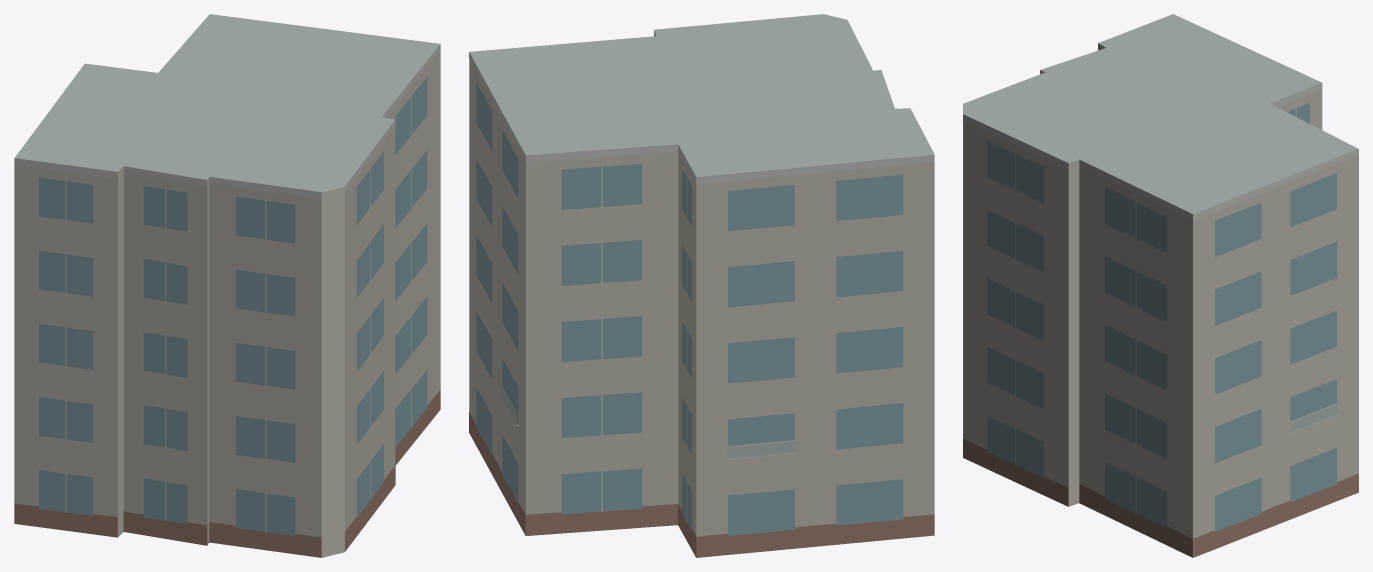
Rendered from survey-upis-32732750.glb.
3 views of the same model, side by side, from view 1: azimuth 30°, elevation 25°; view 2: azimuth 150°, elevation 25°; view 3: azimuth 270°, elevation 25° (orthographic). The views are drawn at different scales.
Parts seen in each view (by area): view 1: survey-upis-32732750.tmp; view 2: survey-upis-32732750.tmp; view 3: survey-upis-32732750.tmp.
Boxes of the visible parts, <box> form: survey-upis-32732750.tmp: <box>14,14,440,557</box>; survey-upis-32732750.tmp: <box>469,14,934,557</box>; survey-upis-32732750.tmp: <box>963,14,1358,557</box>.
Size of the model in its own units: 16.38 by 13.1 by 13.68.
